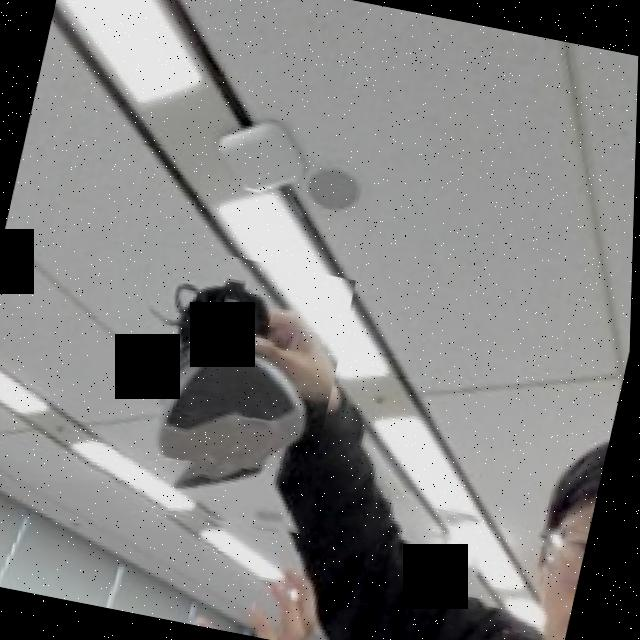shoe: (86, 239, 358, 545)
